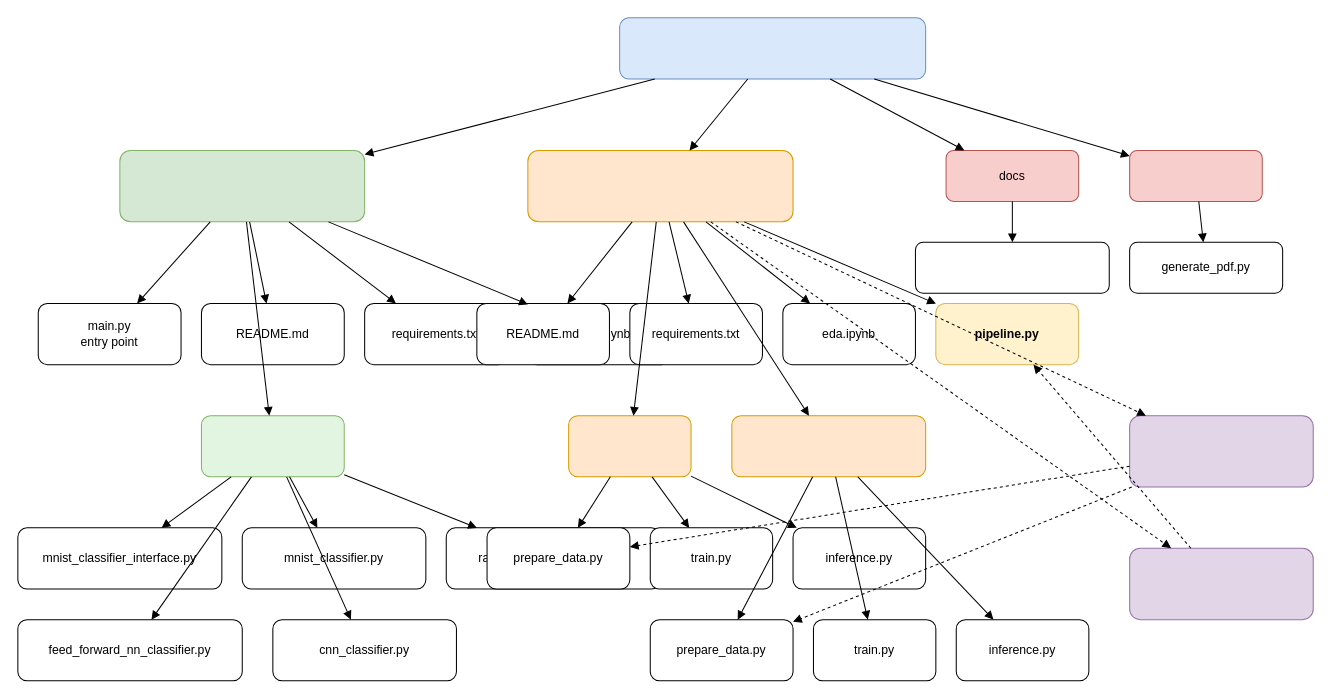
Image size: 1331x699. Some labels were removed from this diagram. Each missing label, with the centre of its shape:
artifacts trained models: pixel 1221 583
code_structure_guide.md / .pdf: pixel 1011 267
data animals + ner datasets: pixel 1221 451
image_classification: pixel 828 446
ner: pixel 629 446
scripts: pixel 1195 175
src: pixel 272 446
Task 1 MNIST Classification: pixel 242 185
Task 2 NER + Image Classification: pixel 660 185
Winstars AI DS internship test: pixel 772 48
